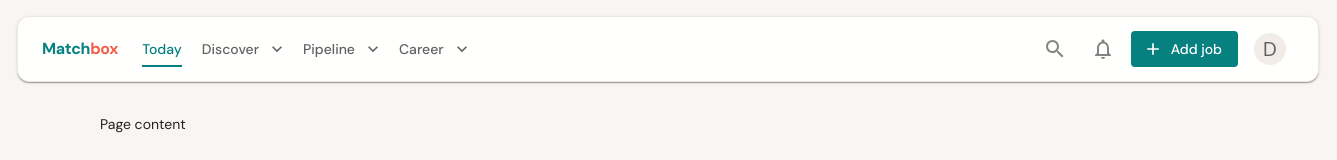
Test: AppShell › should show the empty notification state
The width and height of the screenshot is (1337, 160).
Click the button named "Notifications" at (1103, 49), box [1083,29,1123,69]
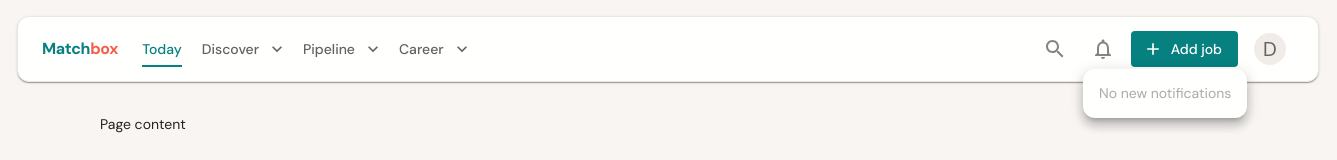
Check: the menu item "No new notifications" is shown, box [1099,84,1231,102]
